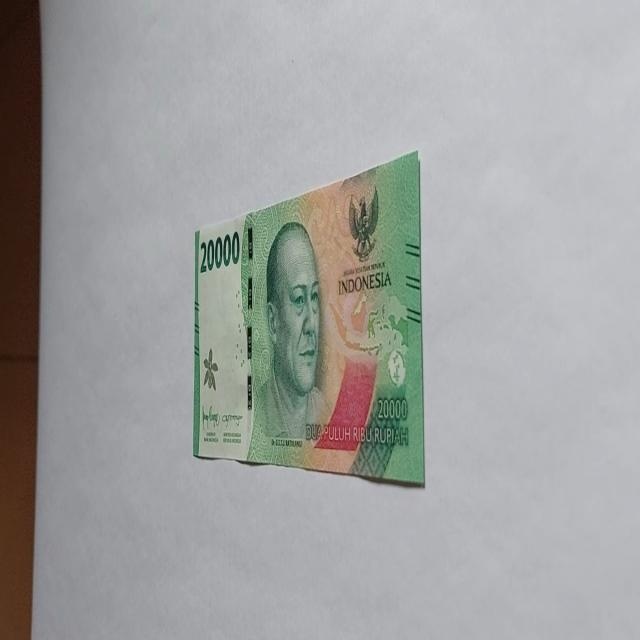dua puluh ribu rupiah: (192, 149, 424, 487)
